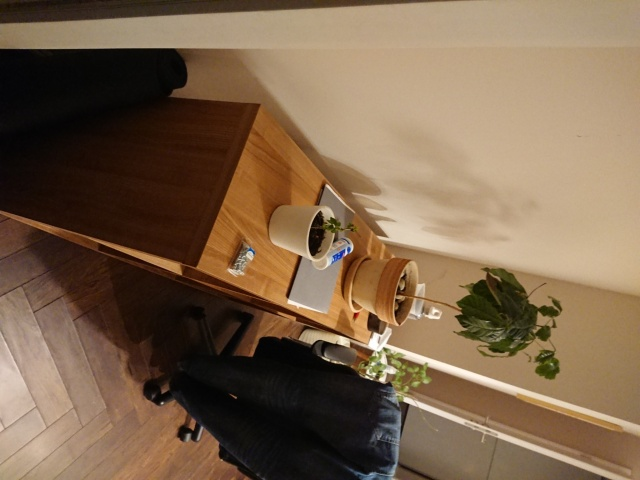Solana Pag Fine Sea Salt 250g: (308, 233, 357, 273)
